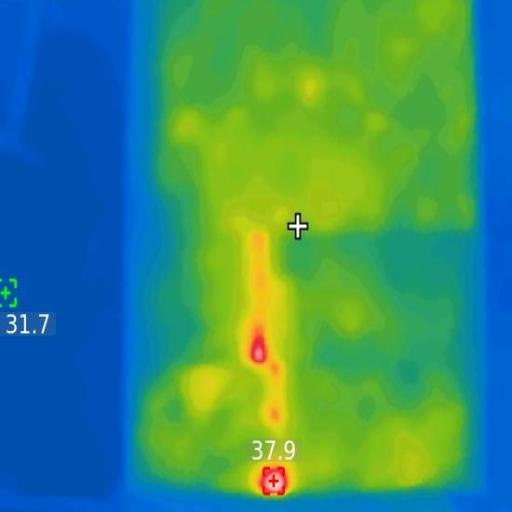hotspot: (260, 461, 288, 498), (248, 328, 269, 369)
